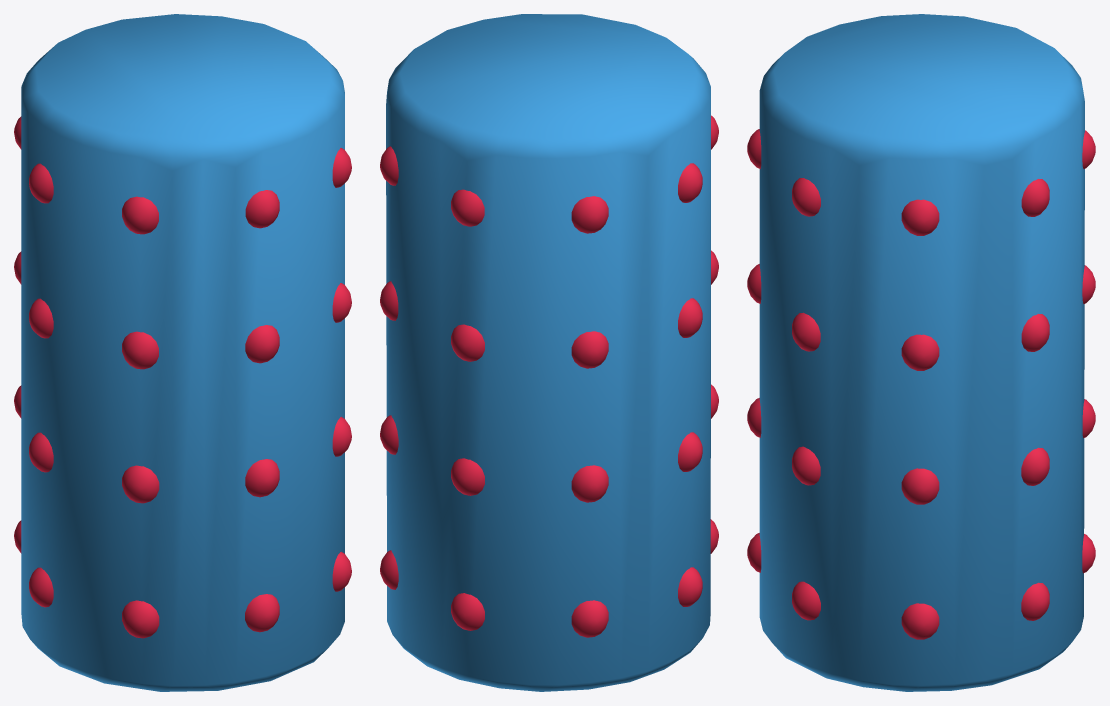
3 renders of one model, left to right at view 1: azimuth 30°, elevation 25°; view 2: azimuth 150°, elevation 25°; view 3: azimuth 270°, elevation 25°, orthographic.
Visible parts, largest first — view 1: Cylinder, Cylinder.002; view 2: Cylinder, Cylinder.002; view 3: Cylinder, Cylinder.002.
Part boxes in pixels (<box>): Cylinder: <box>21,14,344,691</box>; Cylinder.002: <box>14,116,351,638</box>; Cylinder: <box>386,14,710,691</box>; Cylinder.002: <box>380,115,718,637</box>; Cylinder: <box>759,14,1084,691</box>; Cylinder.002: <box>747,129,1095,639</box>.
Bounding box in the file's own units: 2088 × 3637 × 2087.
